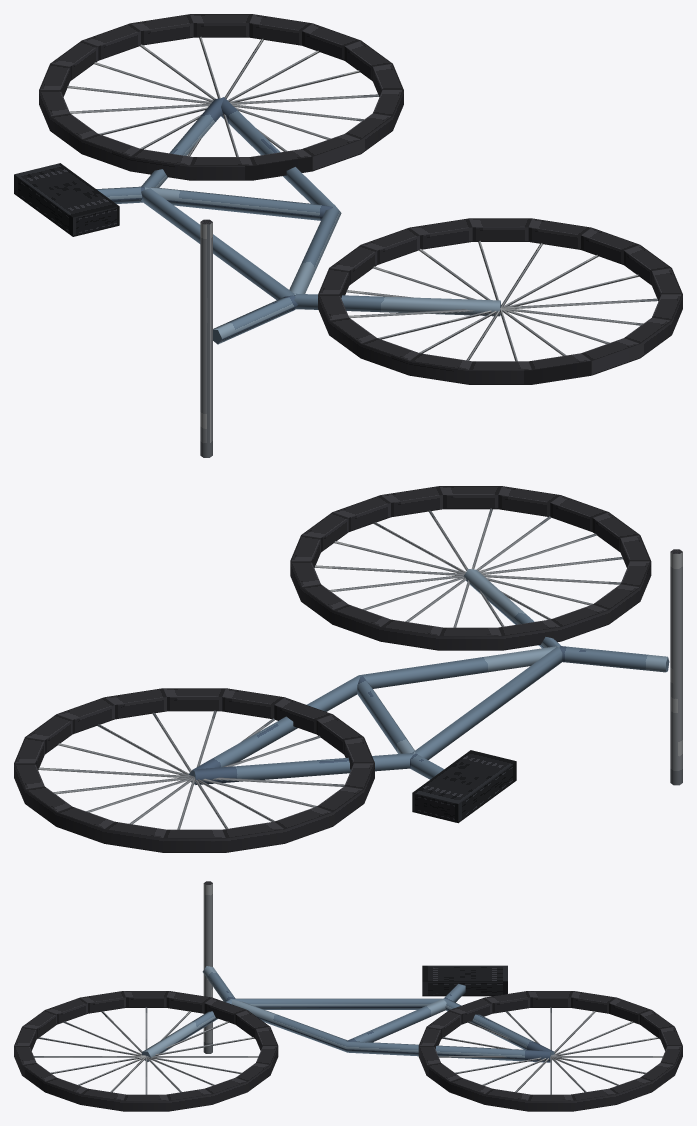
The model's file is ABN_FallenBicycle.glb.
3 renders of one model, top to bottom at view 1: azimuth 30°, elevation 25°; view 2: azimuth 150°, elevation 25°; view 3: azimuth 270°, elevation 25°, orthographic. The views are drawn at different scales.
Visible parts, largest first — view 1: ABN_FallenBicycle_Mesh; view 2: ABN_FallenBicycle_Mesh; view 3: ABN_FallenBicycle_Mesh.
Boxes of the visible parts, x1,y1,x2,y2 form: ABN_FallenBicycle_Mesh: [14, 14, 682, 457]; ABN_FallenBicycle_Mesh: [14, 486, 682, 852]; ABN_FallenBicycle_Mesh: [14, 881, 682, 1111].
Size of what is drawn, in the model's own units: 0.8852 by 0.48 by 1.72.
1 material, 1 textured.
